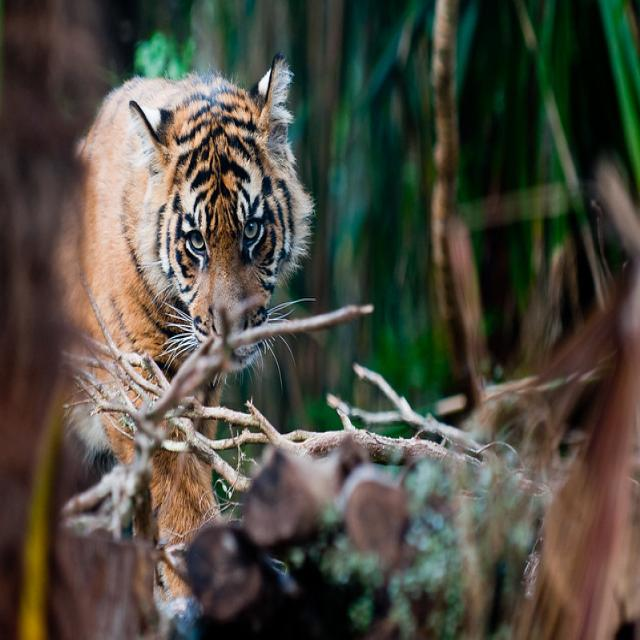Tiger: (44, 48, 319, 611)
